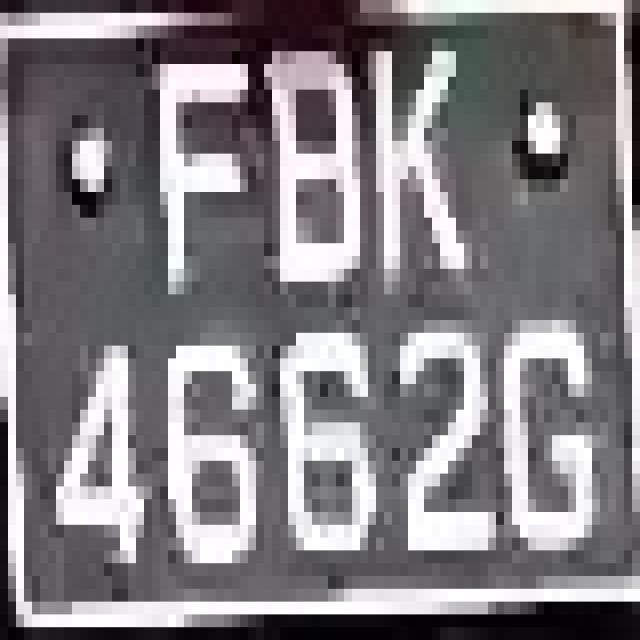2: (368, 294, 488, 550)
4: (24, 307, 152, 589)
6: (136, 294, 280, 589), (264, 307, 384, 538)
B: (240, 26, 368, 358)
F: (128, 13, 256, 307)
G: (504, 269, 608, 576)
K: (336, 38, 480, 294)
